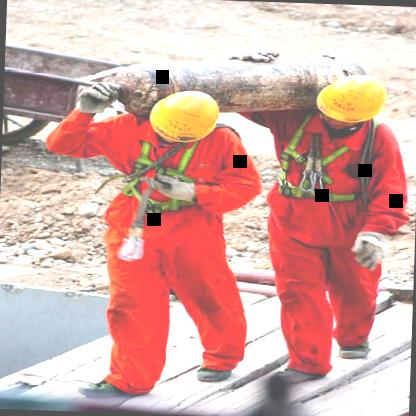helmet: (314, 71, 392, 124), (147, 88, 221, 142)
